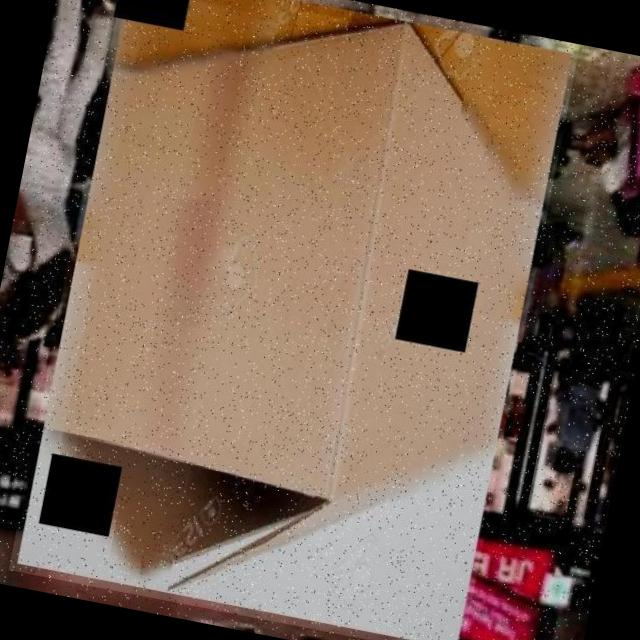box: (8, 0, 580, 640)
